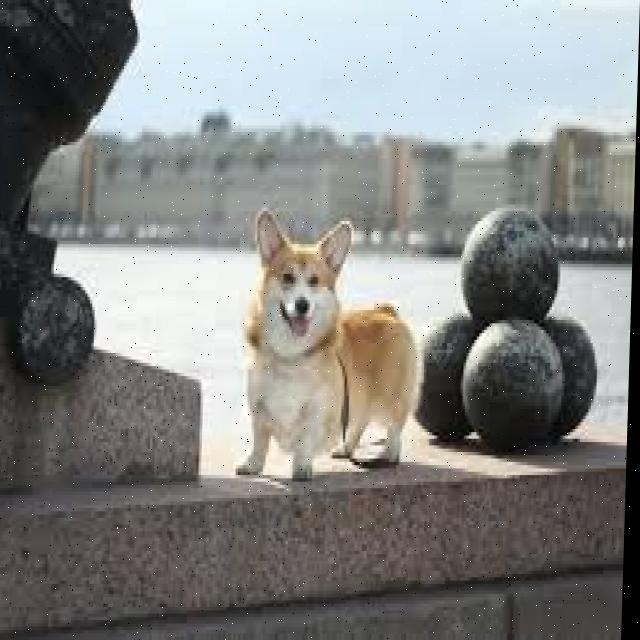CORGI: (219, 208, 436, 492)
